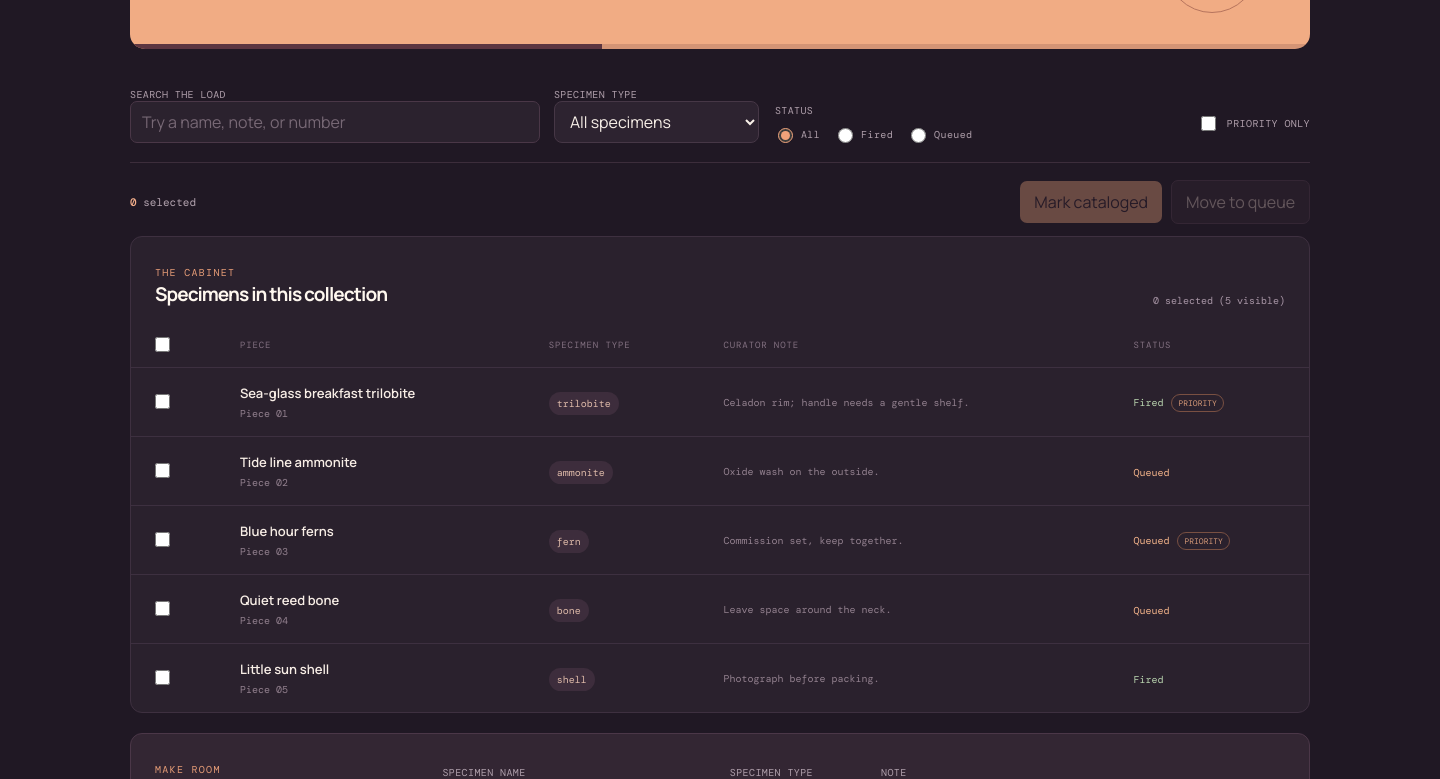
Test: FossilNote app › keeps selection when a status filter hides it
The image size is (1440, 779).
(page scrolled)
Click the checkbox named "Select Sea-glass breakfast trilobite": click(162, 402) x1=155 y1=394 x2=170 y2=409
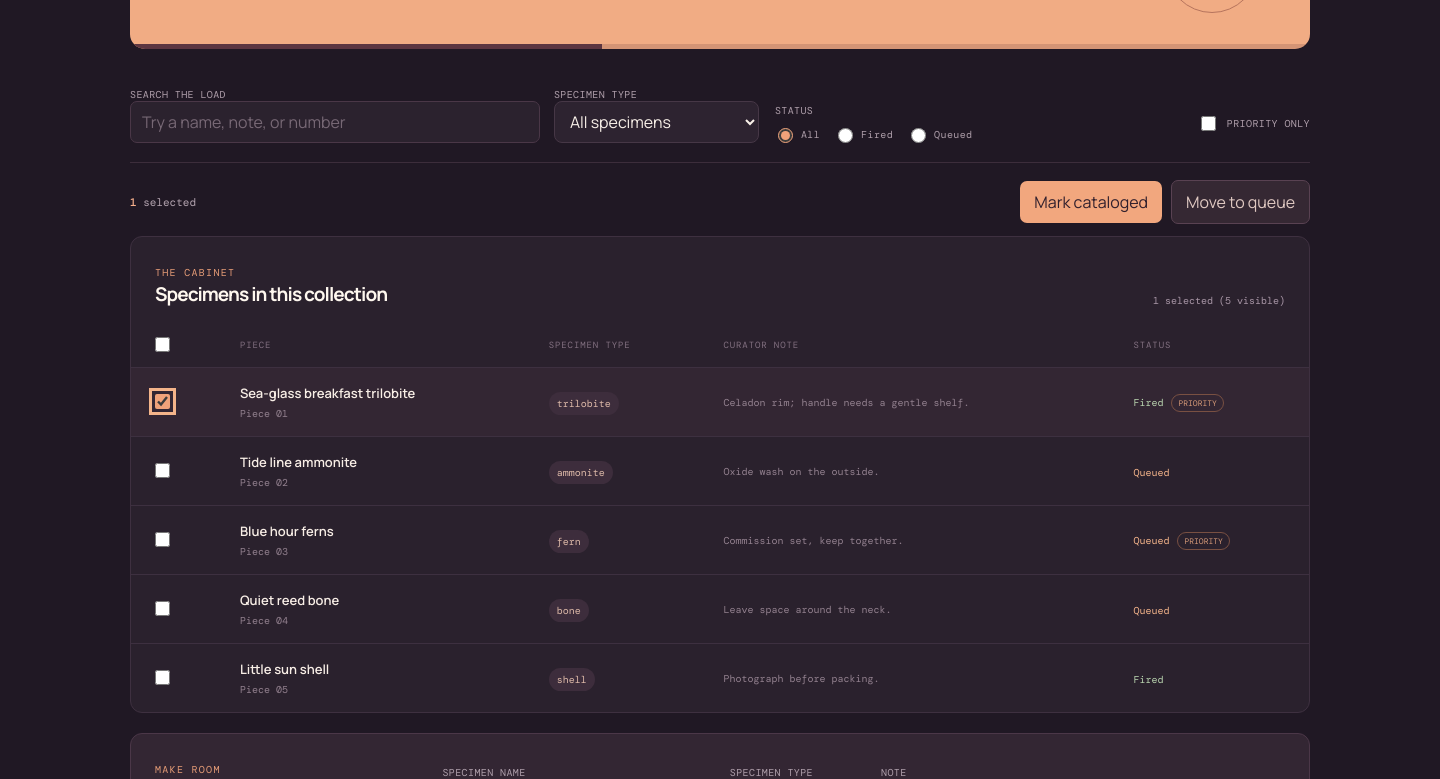
Click the radio button labelled "Queued": click(919, 136) x1=911 y1=128 x2=926 y2=143
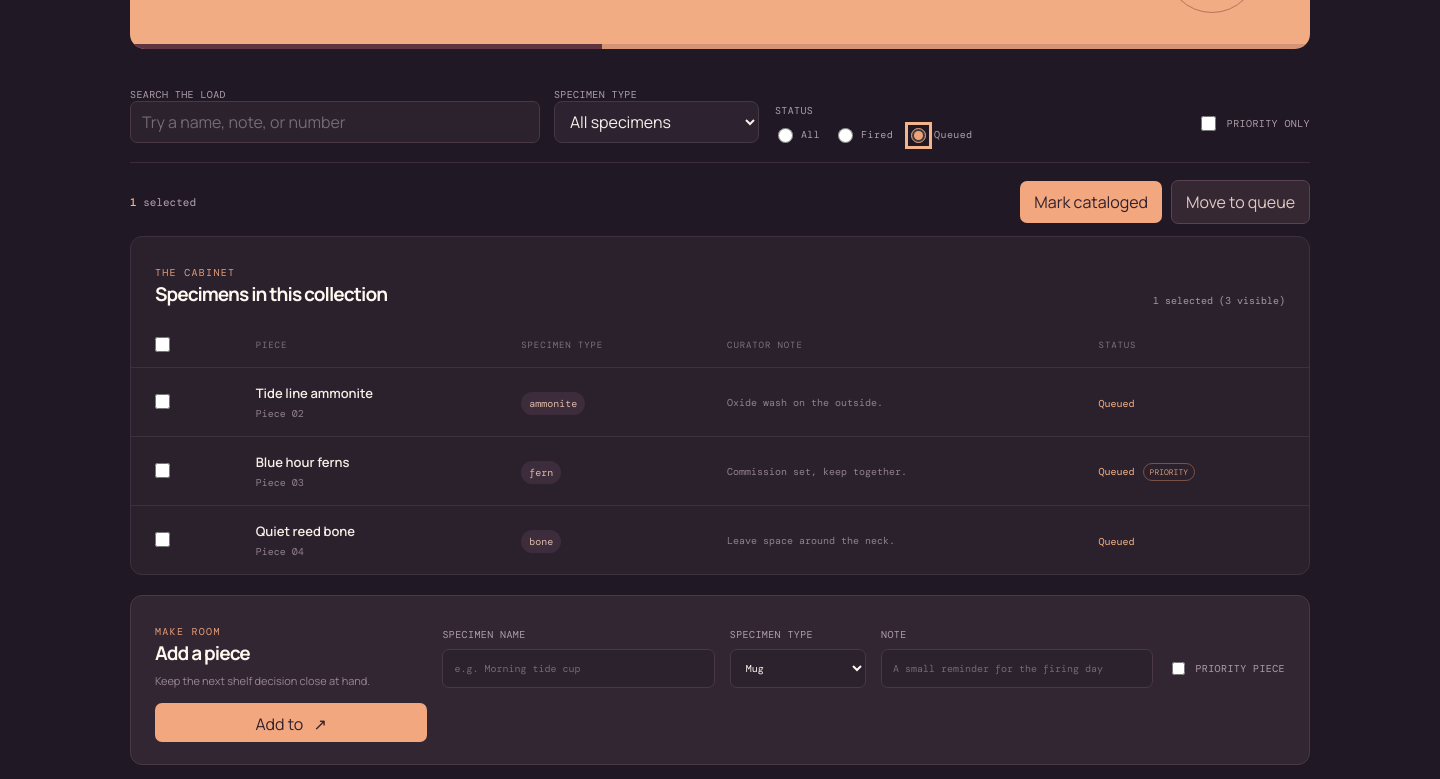
expect the text "1 selected (3 visible)" is shown: met, box x1=1153 y1=294 x2=1285 y2=307
Click the radio button labelled "All": click(785, 136) x1=778 y1=128 x2=793 y2=143
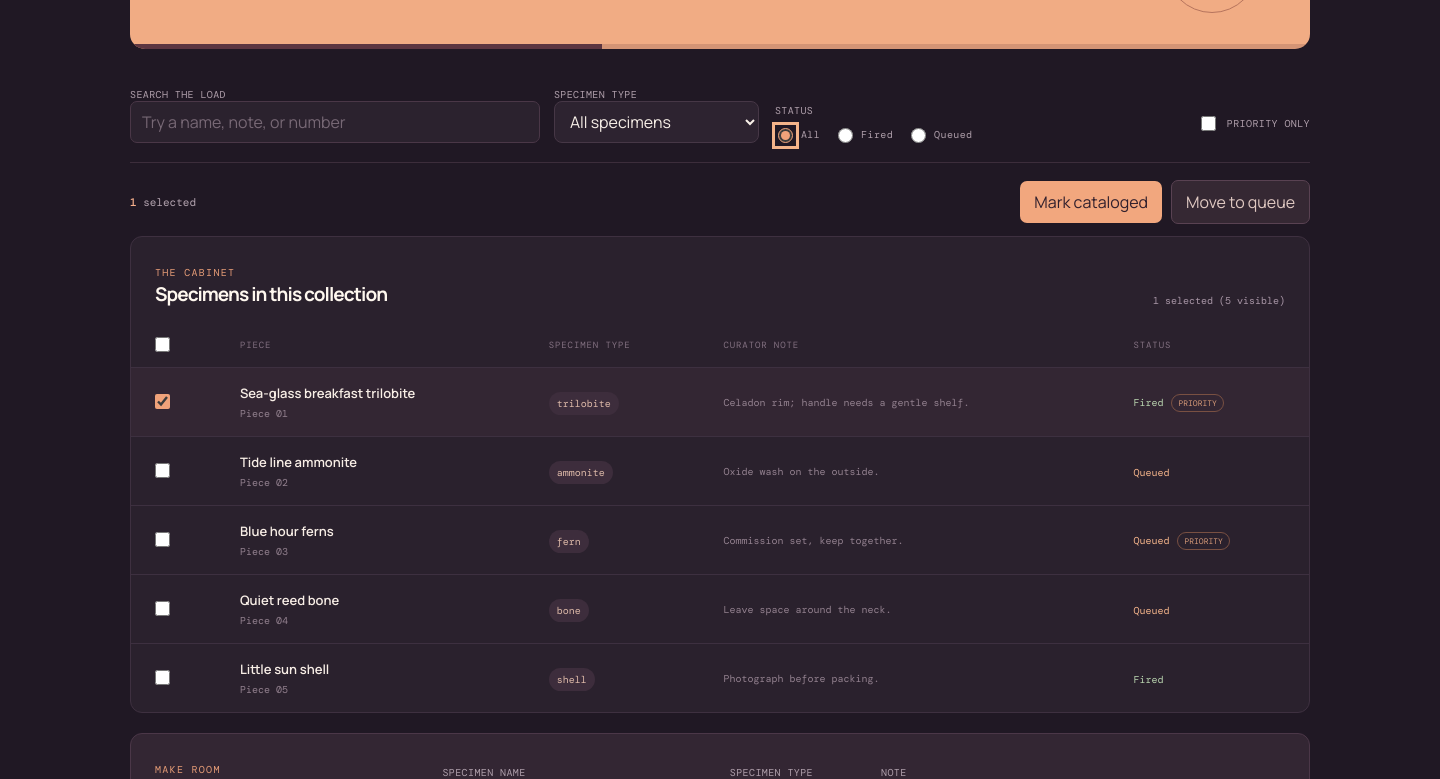
expect the checkbox named "Select Sea-glass breakfast trilobite" is checked: met, box x1=155 y1=394 x2=170 y2=409
